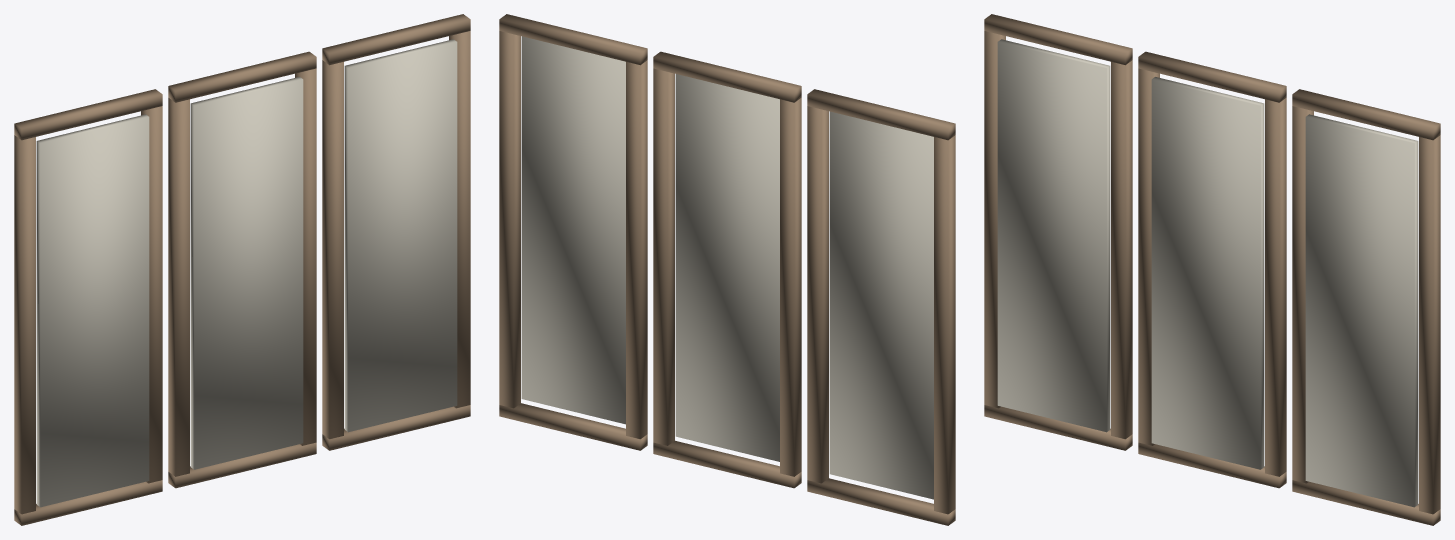
Rendered from funeral_folding_screen__squat.glb.
3 renders of one model, left to right at view 1: azimuth 30°, elevation 25°; view 2: azimuth 150°, elevation 25°; view 3: azimuth 330°, elevation 25°, orthographic.
Visible parts, largest first — view 1: world; view 2: world; view 3: world.
Boxes of the visible parts, x1,y1,x2,y2 form: world: [14, 14, 470, 525]; world: [499, 14, 955, 525]; world: [984, 14, 1440, 525].
Bounding box in the file's own units: 1.54 × 1.3 × 0.0594.
